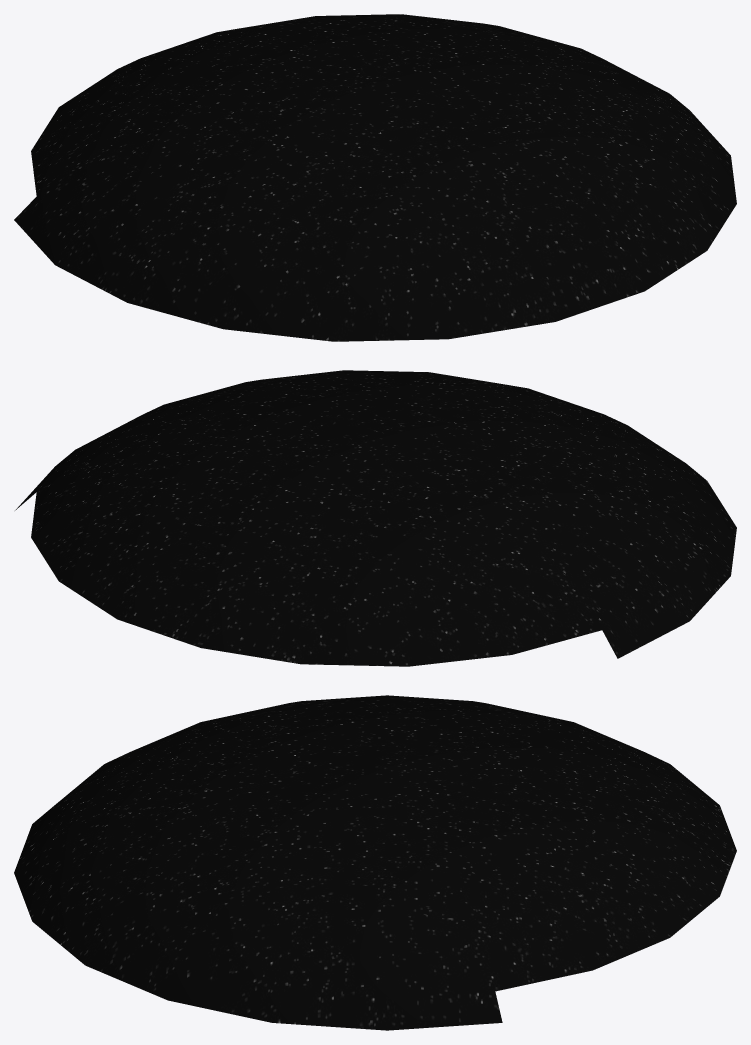
Rendered from roof.fbx.
The picture shows the model from 3 angles, top to bottom: view 1: azimuth 30°, elevation 25°; view 2: azimuth 150°, elevation 25°; view 3: azimuth 270°, elevation 25°; orthographic projection.
Visible parts, largest first — view 1: pSphere1; view 2: pSphere1; view 3: pSphere1.
Part boxes in pixels (left/top/right/bottom): pSphere1: left=14, top=14, right=736, bottom=341; pSphere1: left=15, top=370, right=736, bottom=666; pSphere1: left=14, top=695, right=736, bottom=1030.
Size of the model in its own units: 110 by 16.97 by 106.
2 materials, 2 textured.
